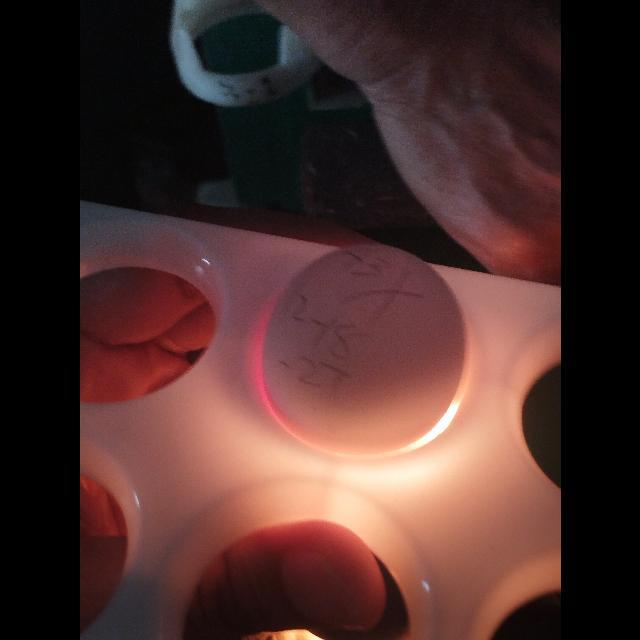Fertile: (254, 234, 472, 462)
